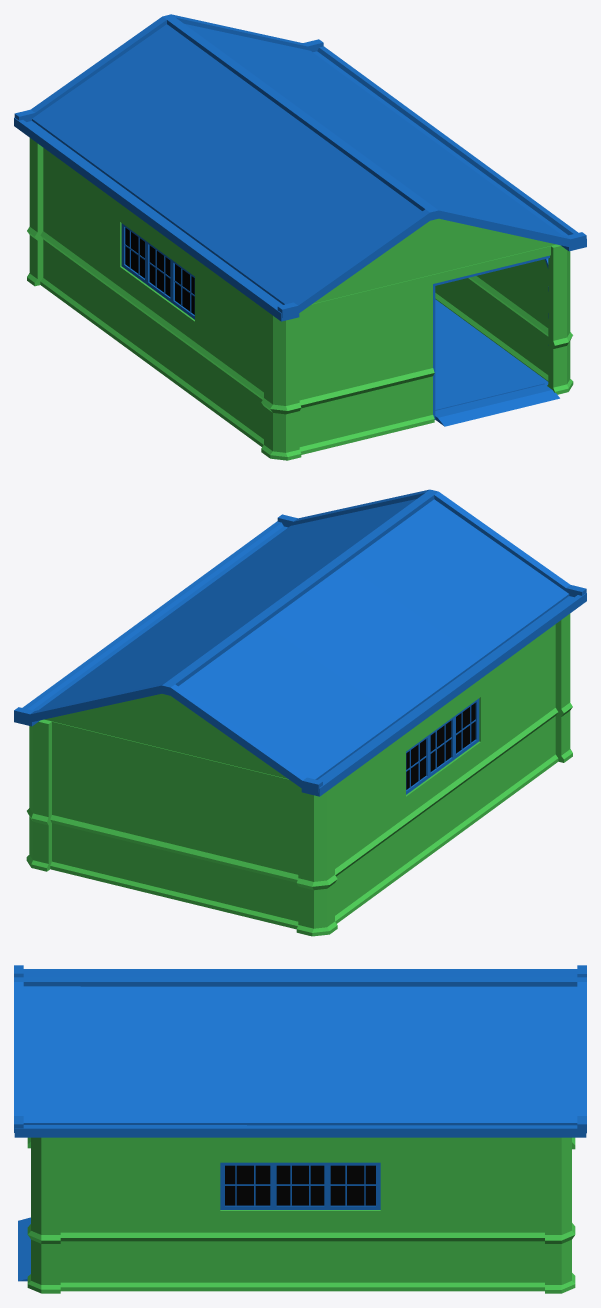
File: HALF_garage.fbx
3 renders of one model, top to bottom at view 1: azimuth 30°, elevation 25°; view 2: azimuth 150°, elevation 25°; view 3: azimuth 270°, elevation 25°, orthographic. The views are drawn at different scales.
Visible parts, largest first — view 1: Cube_6_1; view 2: Cube_6_1; view 3: Cube_6_1.
Part boxes in pixels (x1,y1,x2,y2): Cube_6_1: (14,14,586,460); Cube_6_1: (14,489,586,936); Cube_6_1: (14,965,586,1293).
Bounding box in the file's own units: 546 × 375 × 829.
